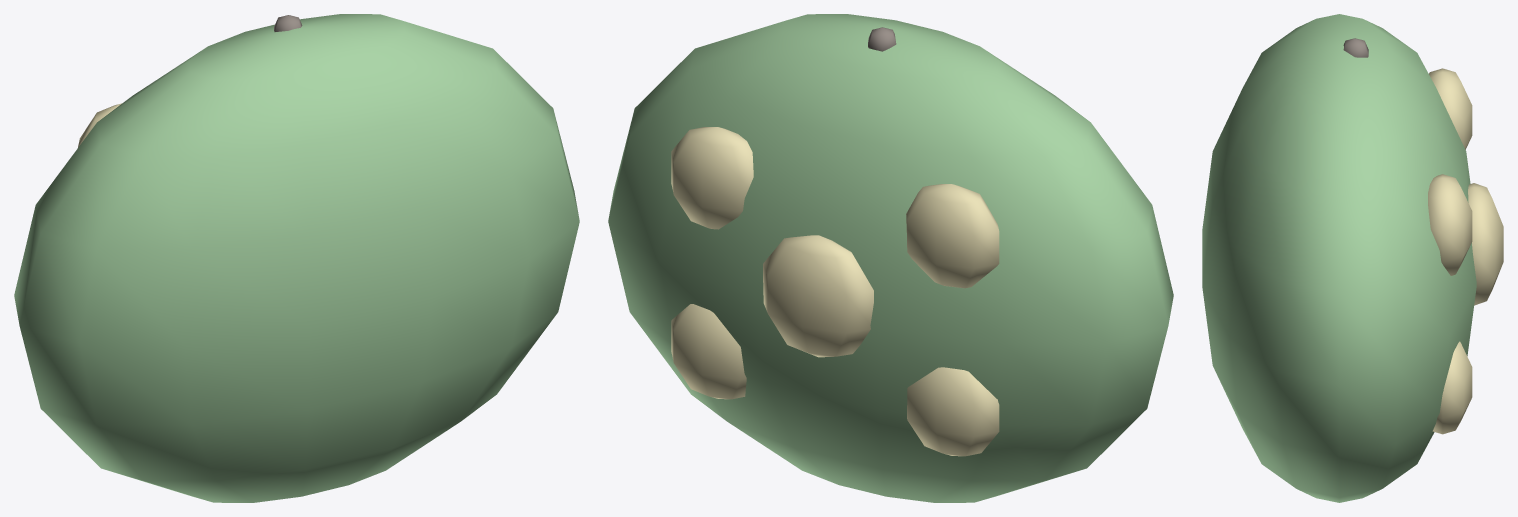
The model's file is outfit_turtle.glb.
3 views of the same model, side by side, from view 1: azimuth 30°, elevation 25°; view 2: azimuth 150°, elevation 25°; view 3: azimuth 270°, elevation 25° (orthographic). The views are drawn at different scales.
Parts seen in each view (by area): view 1: outfit_turtle; view 2: outfit_turtle; view 3: outfit_turtle.
Boxes of the visible parts, left/top/right/bottom form: outfit_turtle: left=14, top=14, right=579, bottom=502; outfit_turtle: left=608, top=14, right=1173, bottom=502; outfit_turtle: left=1202, top=14, right=1503, bottom=502.
Size of the model in its own units: 38 by 30.5 by 19.28.
